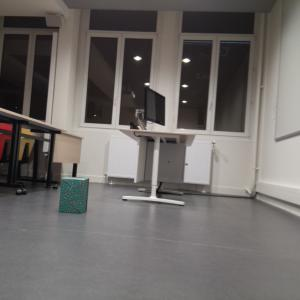small: (57, 173, 91, 215)
